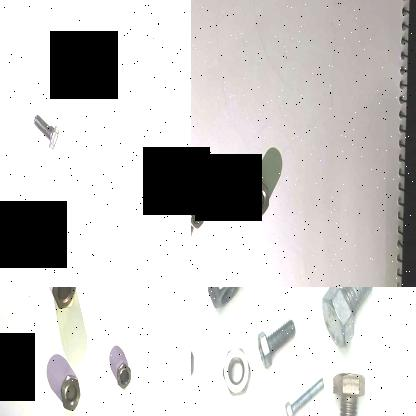Bolts: (321, 287, 381, 356), (255, 309, 299, 370), (328, 368, 369, 416), (26, 102, 62, 156), (283, 375, 325, 416)
NUTS: (222, 338, 252, 400), (204, 287, 250, 313), (59, 371, 83, 413), (250, 176, 272, 220), (50, 287, 78, 312), (116, 360, 134, 392), (191, 204, 209, 229)
